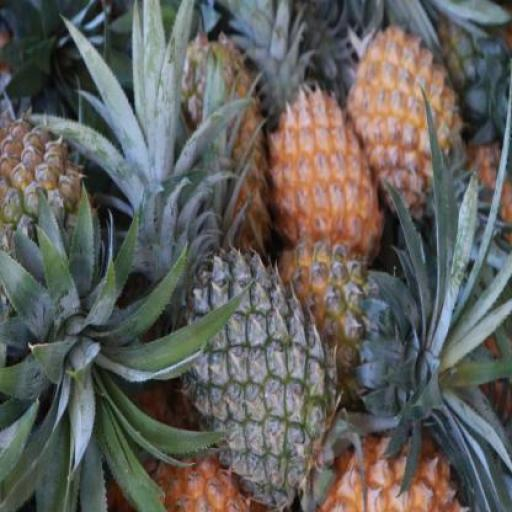------------------------------: (0, 115, 94, 342)
Pineapple - v8 v1: (348, 24, 462, 232), (266, 82, 380, 263)
